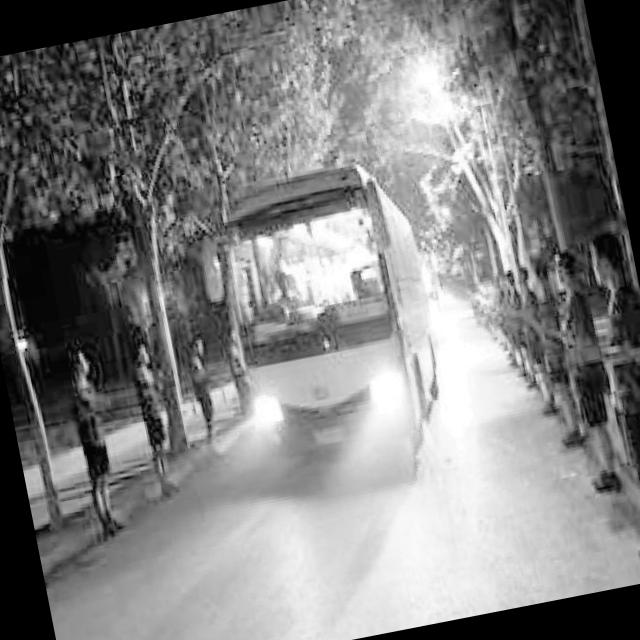Bus: (190, 138, 488, 504)
